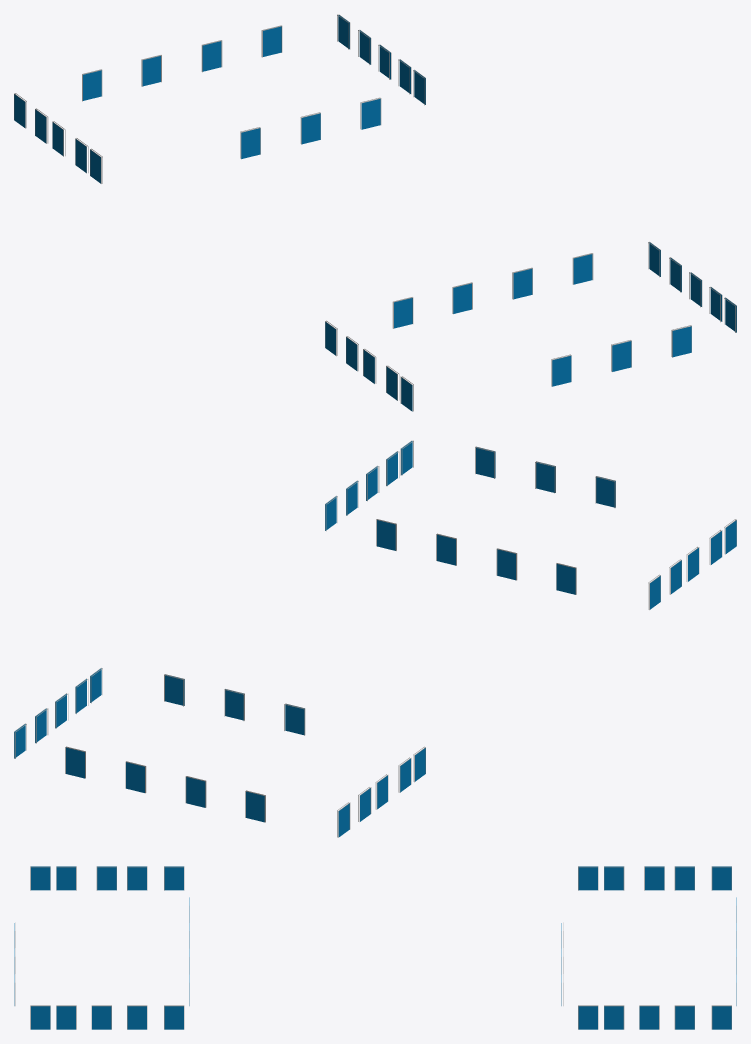
The model's file is Atruim_Central_Distributed_Level_2_IfcDoor.dae.
3 views of the same model, one above another, from view 1: azimuth 30°, elevation 25°; view 2: azimuth 150°, elevation 25°; view 3: azimuth 270°, elevation 25° (orthographic). The views are drawn at different scales.
Parts seen in each view (by area): view 1: no part large enough to name; view 2: no part large enough to name; view 3: 3PvYJhk3D2U9BQlYj7RRlr, 3PvYJhk3D2U9BQlYj7RRlg, 3PvYJhk3D2U9BQlYj7RRlh, 3PvYJhk3D2U9BQlYj7RRle, 3PvYJhk3D2U9BQlYj7RRlk, 1EMmHc7e5Ar95wUHtRrkuT, 1EMmHc7e5Ar95wUHtRrkuS, 1EMmHc7e5Ar95wUHtRrkuV, 1EMmHc7e5Ar95wUHtRrkuU, 1EMmHc7e5Ar95wUHtRrku0, 3PvYJhk3D2U9BQlYj7RRlq, 3PvYJhk3D2U9BQlYj7RRlf (+8 smaller).
Part boxes in pixels (x1=…): 3PvYJhk3D2U9BQlYj7RRlr: x1=56, y1=1005, x2=76, y2=1029; 3PvYJhk3D2U9BQlYj7RRlg: x1=91, y1=1005, x2=111, y2=1029; 3PvYJhk3D2U9BQlYj7RRlh: x1=127, y1=1005, x2=147, y2=1029; 3PvYJhk3D2U9BQlYj7RRle: x1=164, y1=1005, x2=184, y2=1029; 3PvYJhk3D2U9BQlYj7RRlk: x1=30, y1=866, x2=50, y2=890; 1EMmHc7e5Ar95wUHtRrkuT: x1=604, y1=1005, x2=624, y2=1029; 1EMmHc7e5Ar95wUHtRrkuS: x1=639, y1=1005, x2=659, y2=1029; 1EMmHc7e5Ar95wUHtRrkuV: x1=674, y1=1005, x2=694, y2=1029; 1EMmHc7e5Ar95wUHtRrkuU: x1=711, y1=1005, x2=731, y2=1029; 1EMmHc7e5Ar95wUHtRrku0: x1=578, y1=866, x2=598, y2=890; 3PvYJhk3D2U9BQlYj7RRlq: x1=30, y1=1005, x2=50, y2=1029; 3PvYJhk3D2U9BQlYj7RRlf: x1=96, y1=866, x2=116, y2=890.
Size of the model in its own units: 51.25 by 112 by 4.08.
